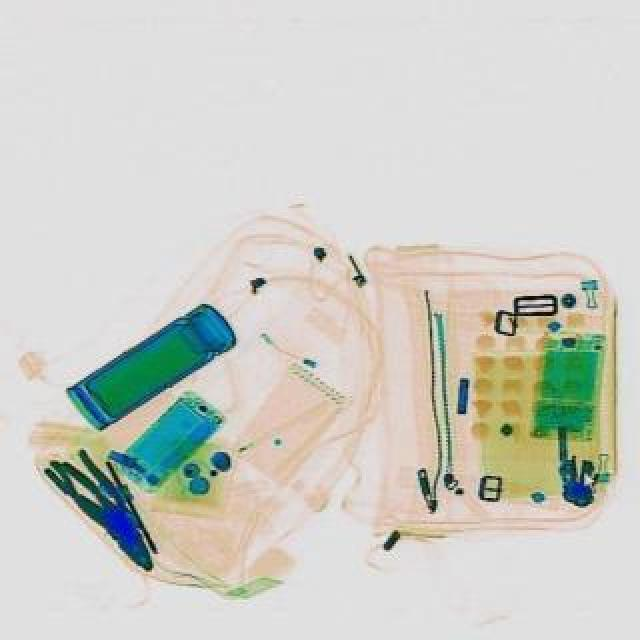wrench: (44, 440, 170, 584)
